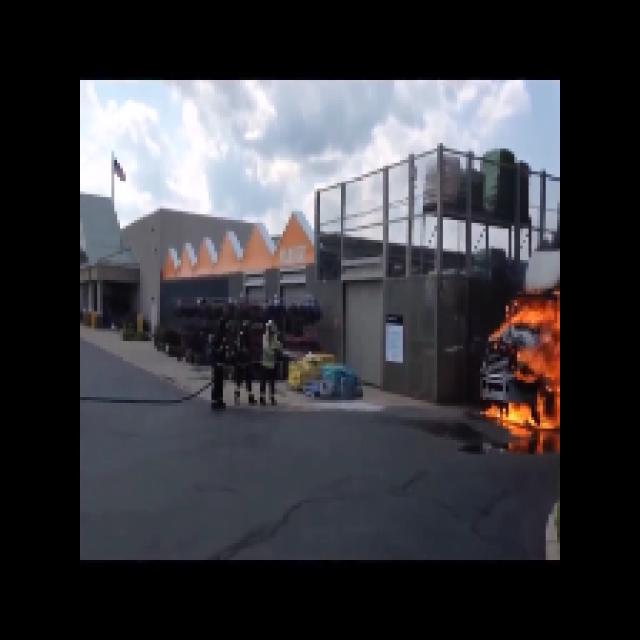fire: (506, 302, 560, 438)
